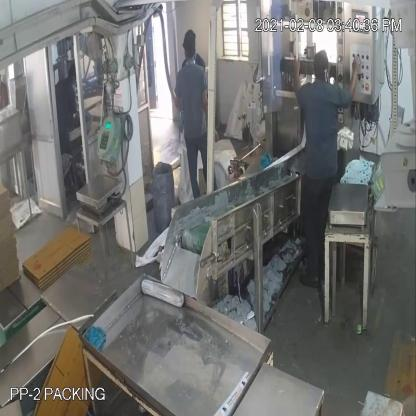no_glove: (346, 49, 367, 109), (288, 42, 306, 102)
